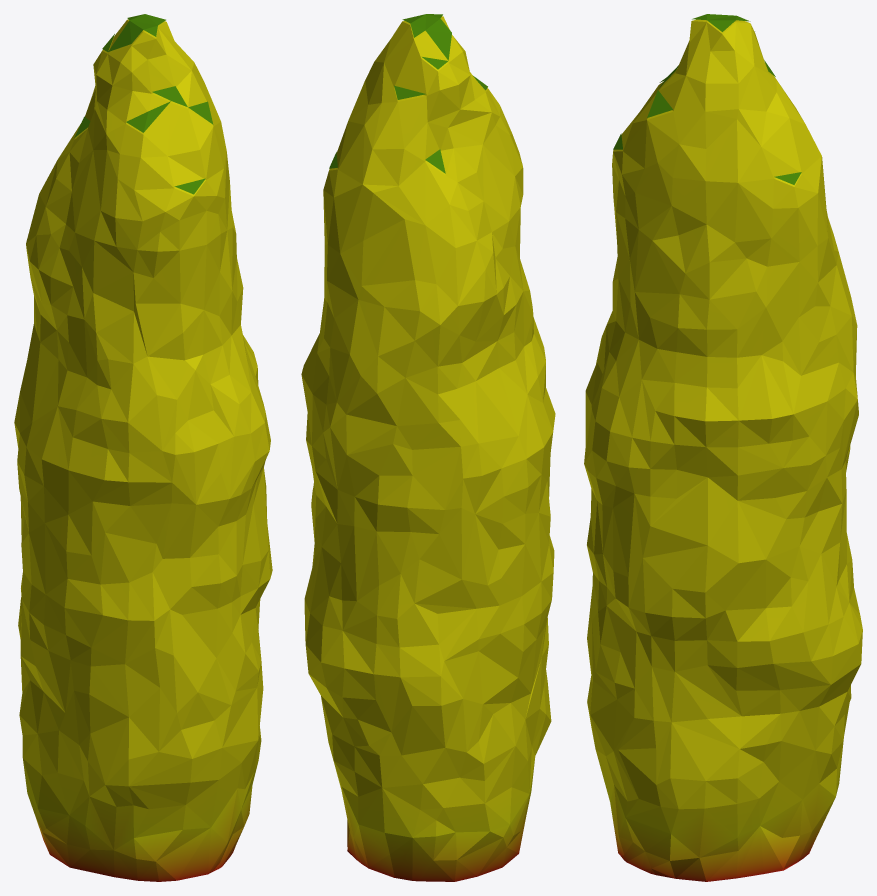
Rendered from canyon_pillar_1.glb.
3 views of the same model, side by side, from view 1: azimuth 30°, elevation 25°; view 2: azimuth 150°, elevation 25°; view 3: azimuth 270°, elevation 25° (orthographic).
Visible parts, largest first — view 1: canyon_pillar_1.002; view 2: canyon_pillar_1.002; view 3: canyon_pillar_1.002.
Part boxes in pixels (x1=…): canyon_pillar_1.002: x1=14, y1=14, x2=272, y2=881; canyon_pillar_1.002: x1=301, y1=14, x2=555, y2=881; canyon_pillar_1.002: x1=584, y1=14, x2=862, y2=881.
Size of what is drawn, in the model's own units: 9.93 by 35.65 by 10.85.
